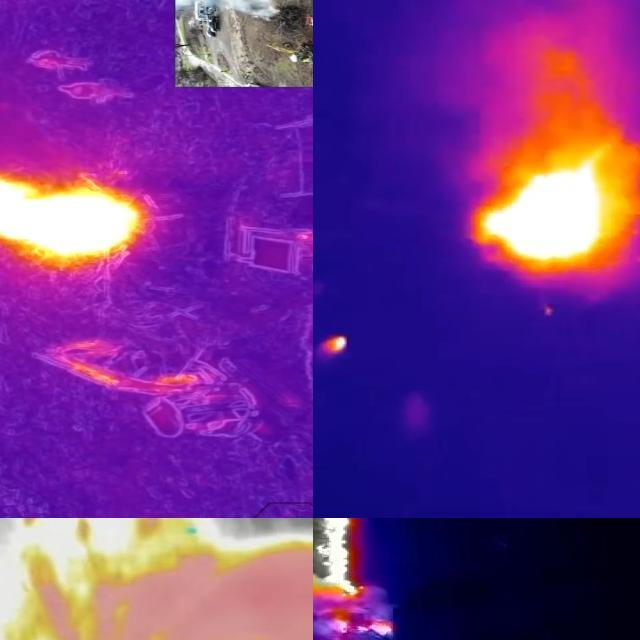fire: (1, 519, 314, 640), (468, 89, 640, 287), (1, 177, 146, 263), (314, 519, 371, 602), (320, 335, 351, 359)
